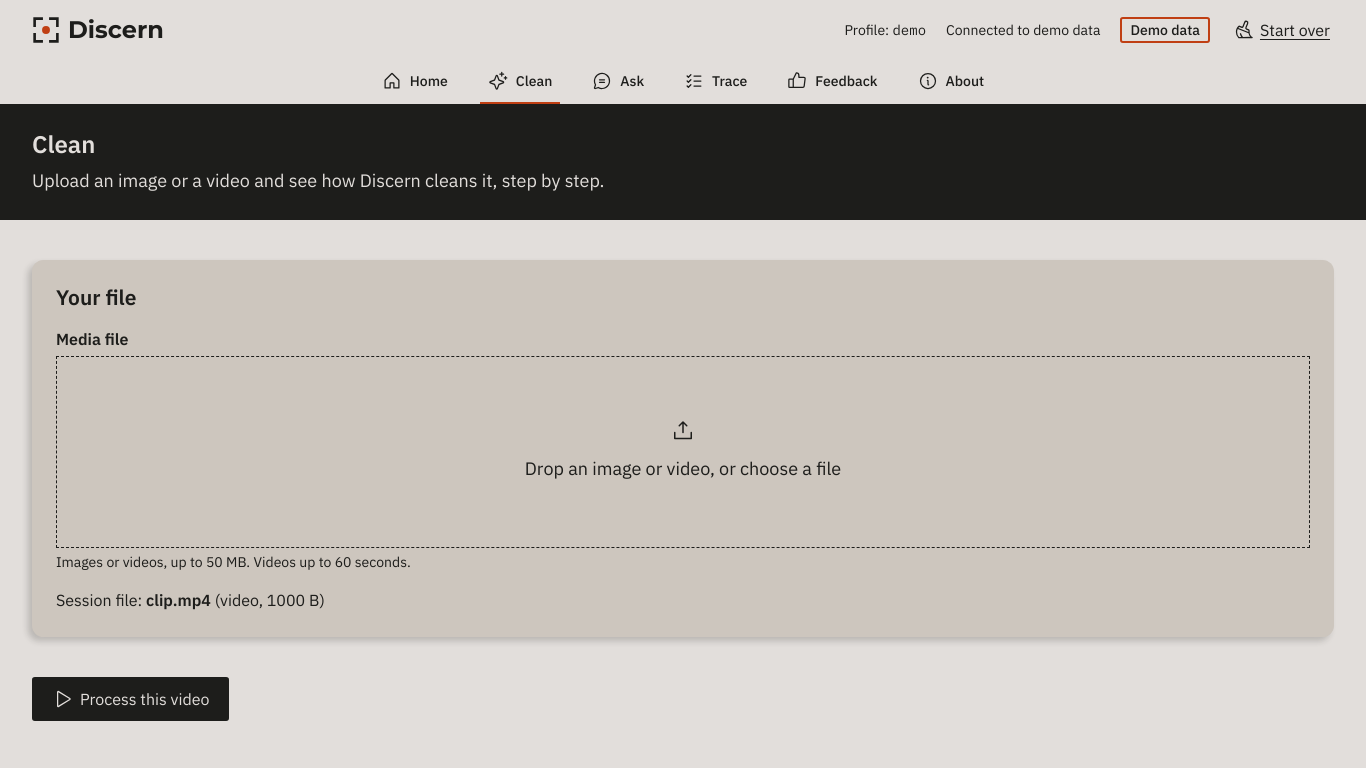
Test: hash routing › offers Start over once a session exists
Step 1. Click the button "Start over" → (1282, 30), box x1=1230 y1=8 x2=1334 y2=52
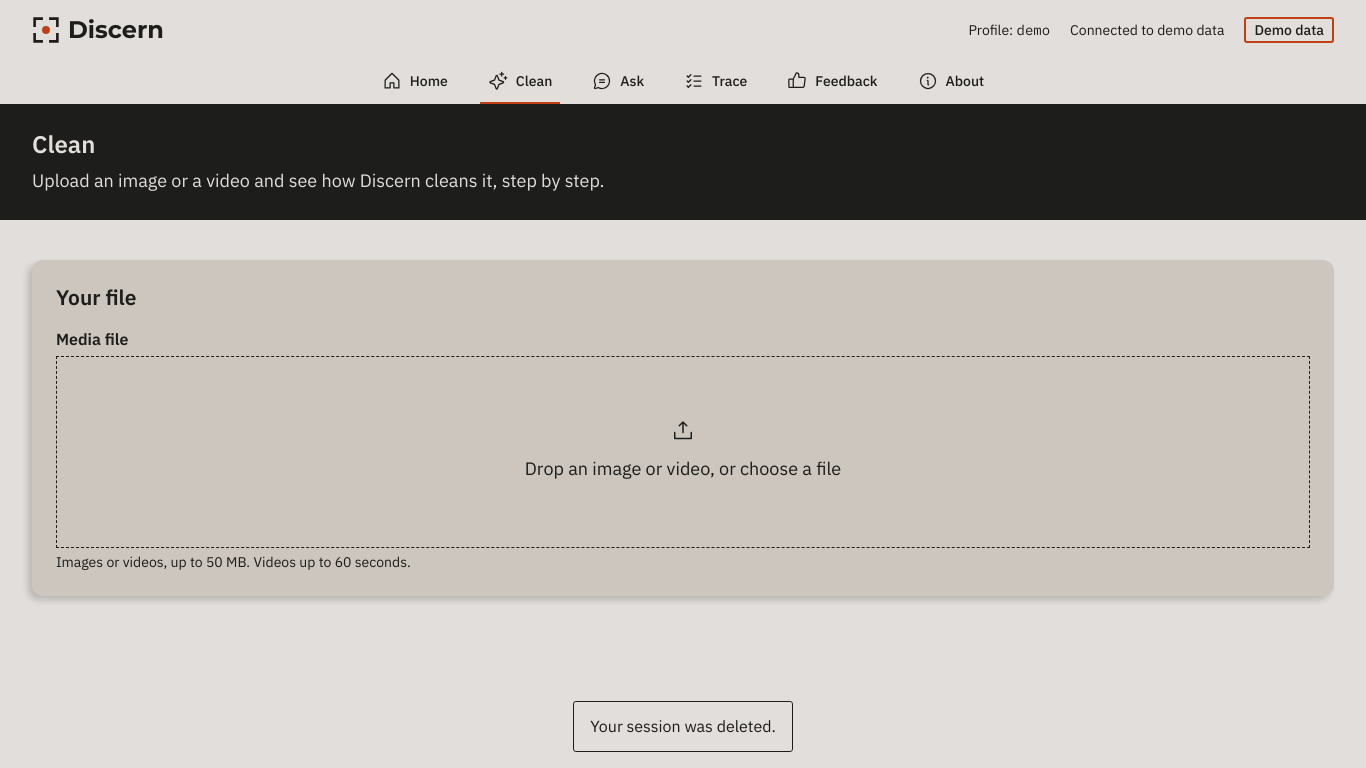
Now the text "Your session was deleted." is shown, box x1=573 y1=701 x2=793 y2=752
Now the button "Start over" is gone
